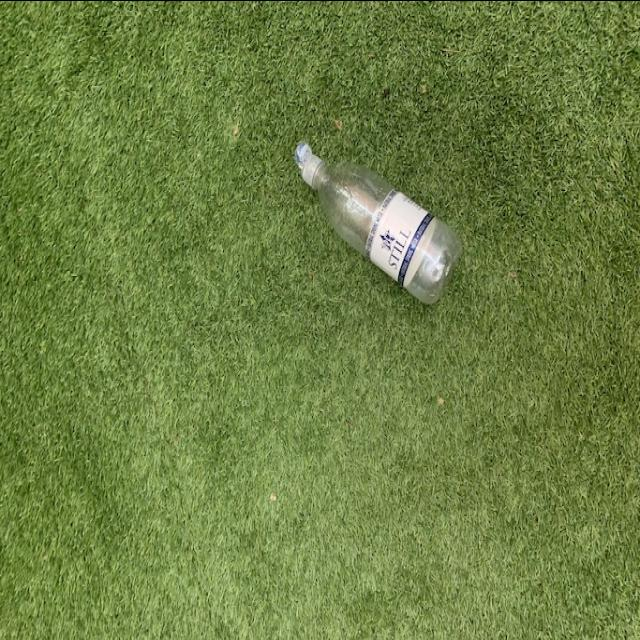PET: (294, 138, 464, 304)
